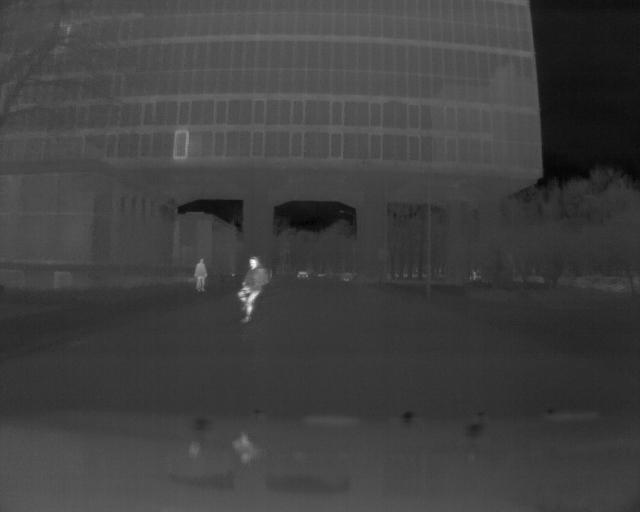person: (237, 253, 271, 324), (193, 255, 210, 294)
